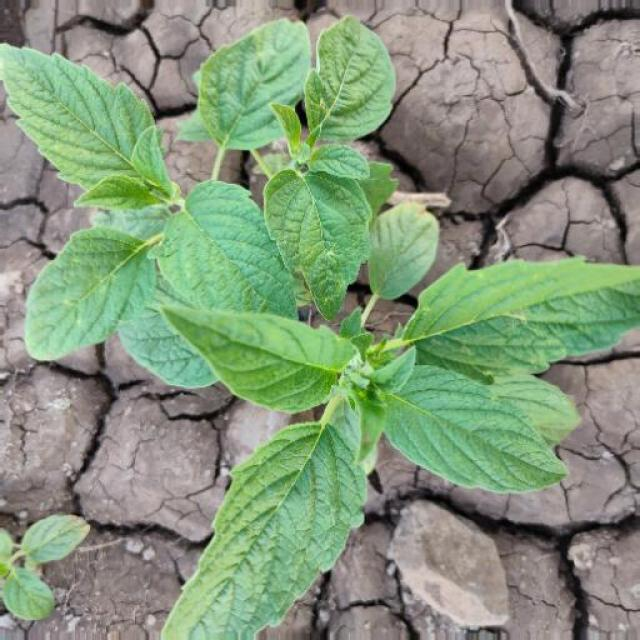crop: (156, 215, 640, 621), (12, 32, 418, 400)
